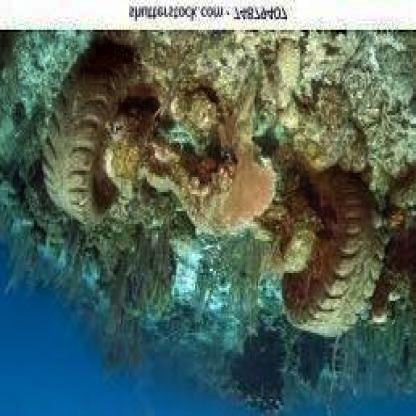tire: (306, 175, 388, 373), (60, 49, 142, 237)
